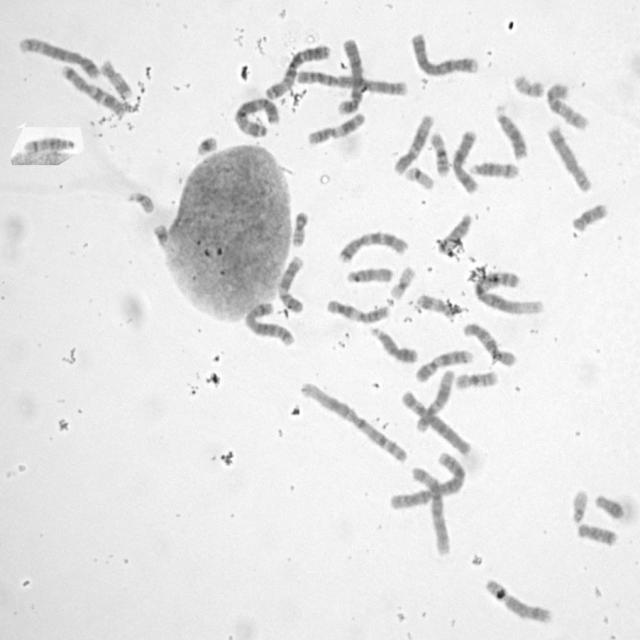A1: (296, 379, 410, 465), (473, 267, 546, 315)
A2: (386, 449, 468, 512), (294, 67, 408, 97)
A3: (263, 41, 332, 100), (232, 94, 280, 138)
B4: (409, 30, 480, 77), (335, 34, 366, 115)
B5: (15, 34, 102, 80), (242, 299, 296, 347)
C10: (460, 321, 518, 366), (544, 80, 592, 131)
C11: (304, 109, 367, 146), (324, 295, 392, 324)
C12: (412, 366, 456, 434), (391, 112, 435, 176)
C6: (398, 388, 472, 455), (408, 463, 452, 558)
C7: (59, 61, 130, 114), (336, 227, 410, 264)
C8: (544, 120, 594, 193), (481, 576, 554, 625)
C9: (414, 346, 474, 383), (276, 252, 308, 314)
D13: (492, 102, 530, 160), (368, 324, 419, 365)
D14: (20, 134, 77, 155), (467, 158, 521, 180)
D15: (442, 210, 474, 250), (342, 263, 394, 285)
E16: (451, 366, 500, 391), (427, 129, 451, 177)
E17: (98, 55, 135, 99), (415, 290, 461, 318)
E18: (570, 199, 609, 232), (575, 519, 619, 547)
F19: (387, 263, 416, 301), (402, 164, 436, 192)
F20: (510, 70, 546, 99), (289, 208, 310, 248)
G21: (192, 131, 220, 157), (150, 221, 171, 251)
G22: (568, 485, 590, 525), (124, 188, 155, 215)
X: (451, 126, 482, 194)
Y: (592, 491, 626, 521)
